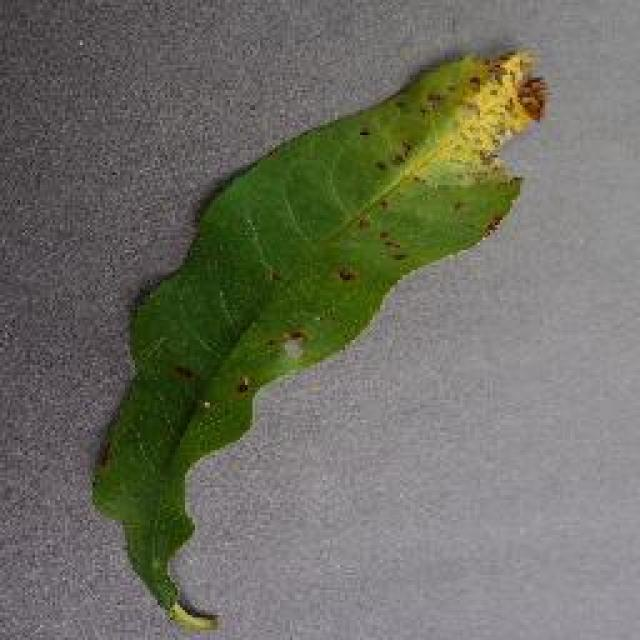Peach_Bacterial_Spot: (238, 105, 414, 350)
